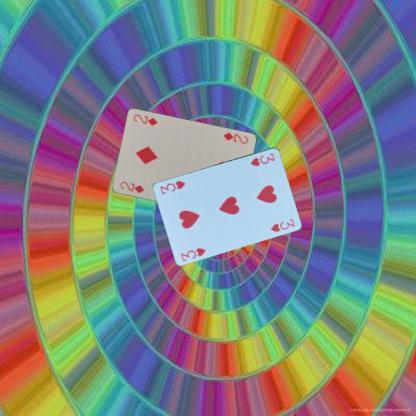2d: (117, 179, 145, 194), (221, 130, 249, 145)
3h: (178, 245, 207, 262), (248, 150, 276, 167)
